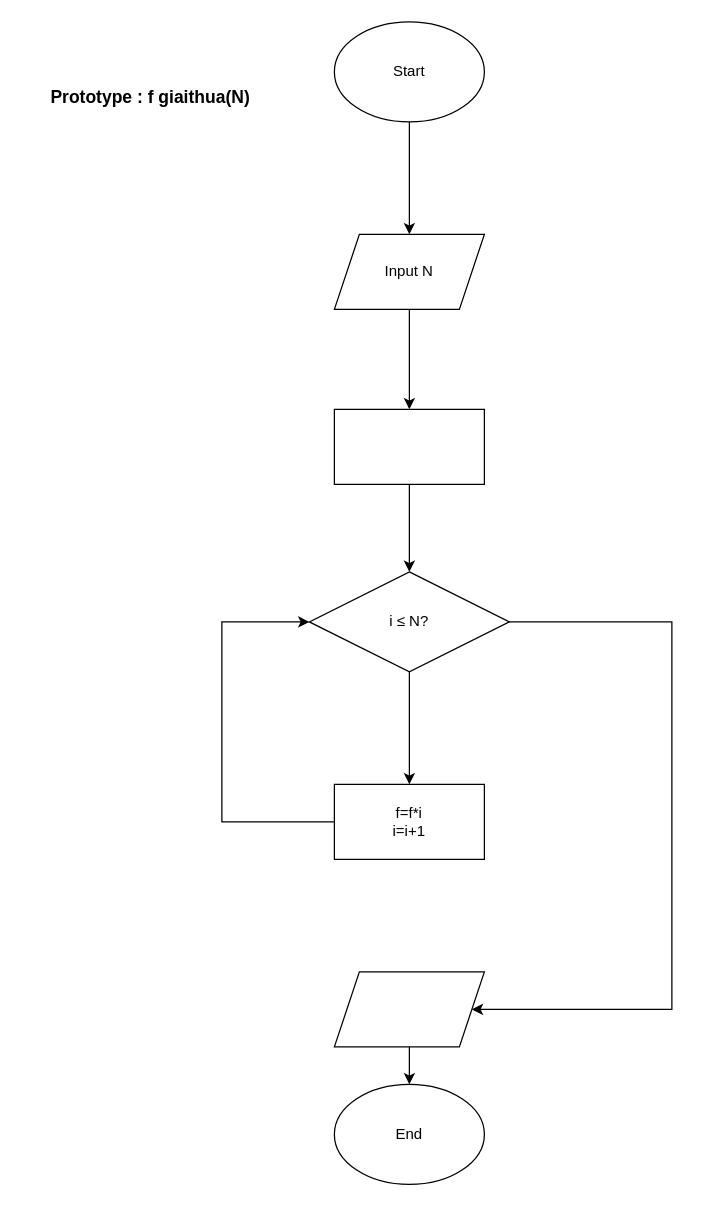
The diagram is 704 pixels wide and 1206 high, and some of its shapes have lost their labels. The shapes that lost their labels are listed below. From the top down, each one's centre as x and y in pixels, then its label:
the point at 408,446: f<--1 i<--2
the point at 408,1009: Display f
